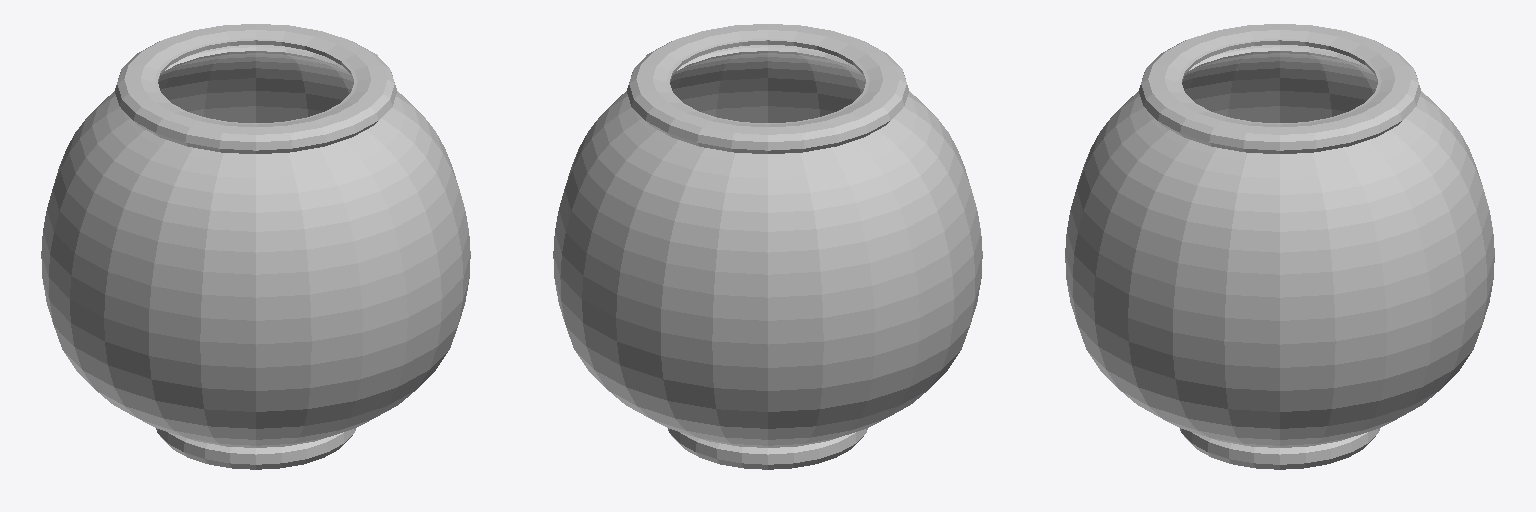
The model's file is UVFishBowl.obj.
The picture shows the model from 3 angles: view 1: azimuth 30°, elevation 25°; view 2: azimuth 150°, elevation 25°; view 3: azimuth 270°, elevation 25°; orthographic projection.
Parts seen in each view (by area): view 1: FishBowl; view 2: FishBowl; view 3: FishBowl.
Boxes of the visible parts, x1,y1,x2,y2 form: FishBowl: [41, 24, 470, 469]; FishBowl: [553, 24, 982, 469]; FishBowl: [1065, 24, 1494, 469].
Bounding box in the file's own units: 26.52 × 24.15 × 26.52.